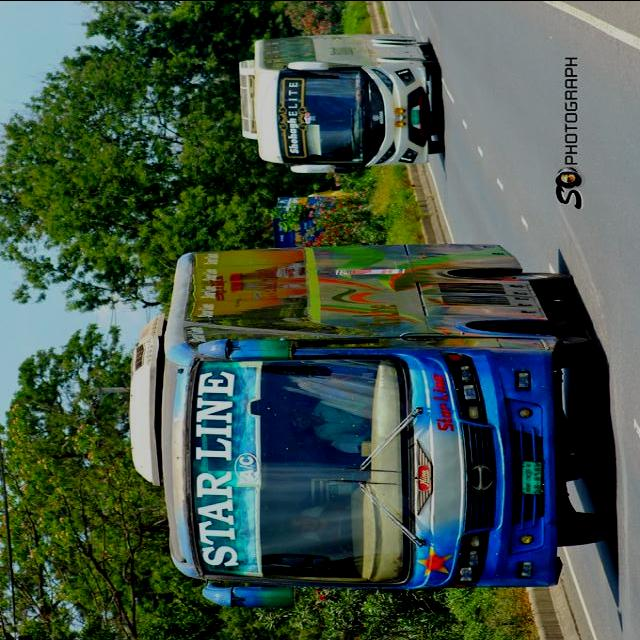bus: (130, 242, 612, 610), (239, 33, 444, 174)
